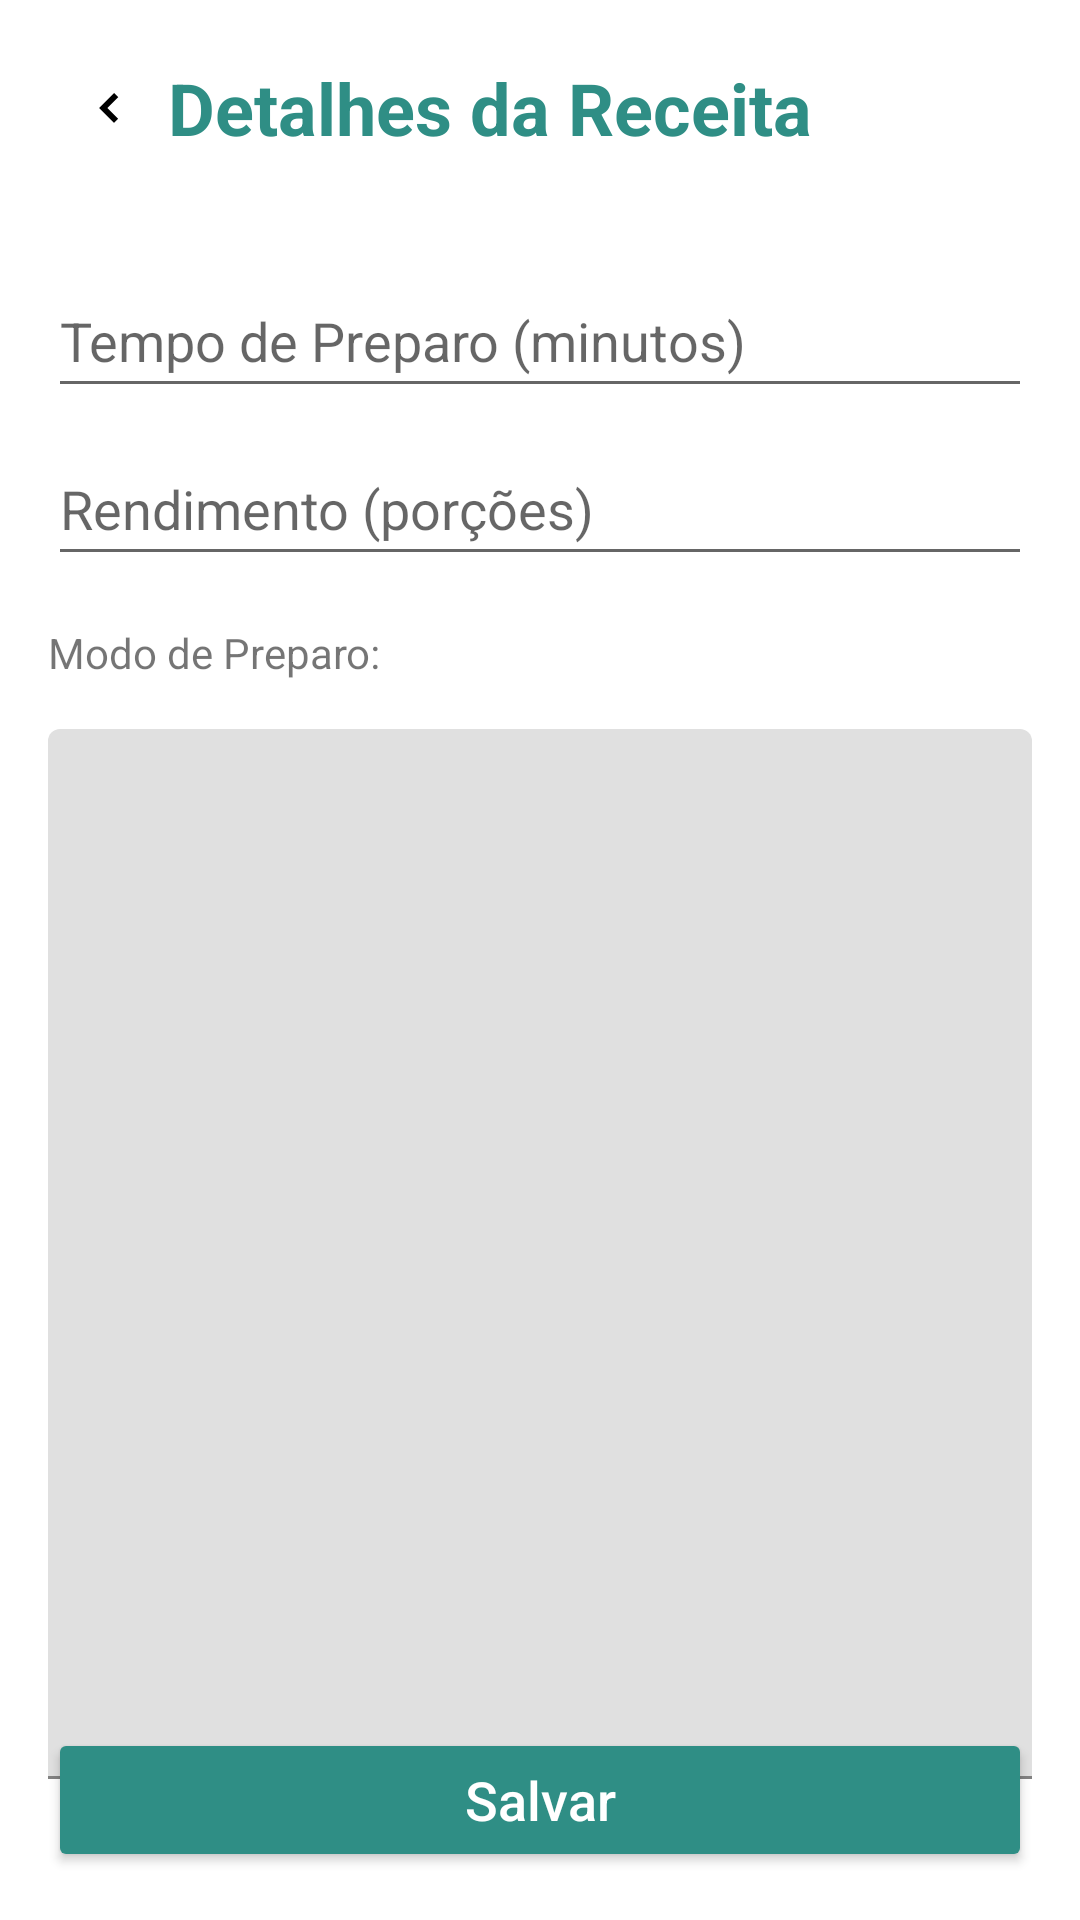

Where icons sit on this 1080x1920 app screen, as (x1,y1,x2,y2):
Voltar: (99,93,118,123)
